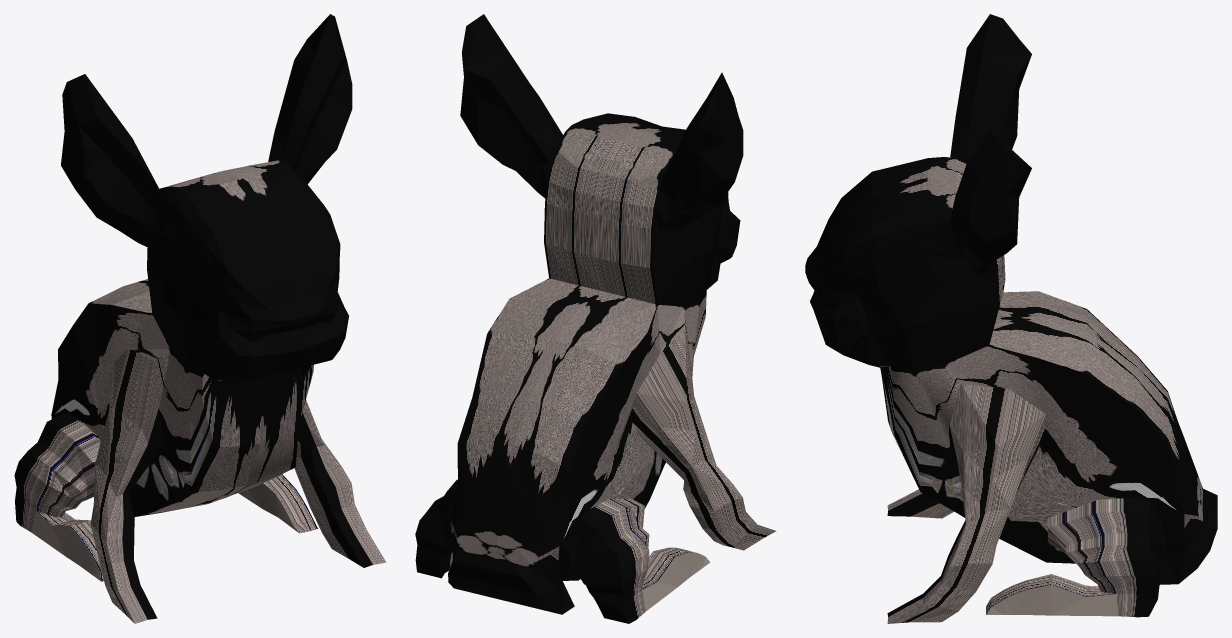
File: LowPolyBunny.FBX
3 views of the same model, side by side, from view 1: azimuth 30°, elevation 25°; view 2: azimuth 150°, elevation 25°; view 3: azimuth 270°, elevation 25° (orthographic). The views are drawn at different scales.
Visible parts, largest first — view 1: Box001; view 2: Box001; view 3: Box001.
Part boxes in pixels (left/top/right/bottom): Box001: left=14, top=14, right=386, bottom=623; Box001: left=415, top=14, right=776, bottom=623; Box001: left=805, top=14, right=1217, bottom=623.
Size of the model in its own units: 55.61 by 101 by 76.62.
1 material, 1 textured.
